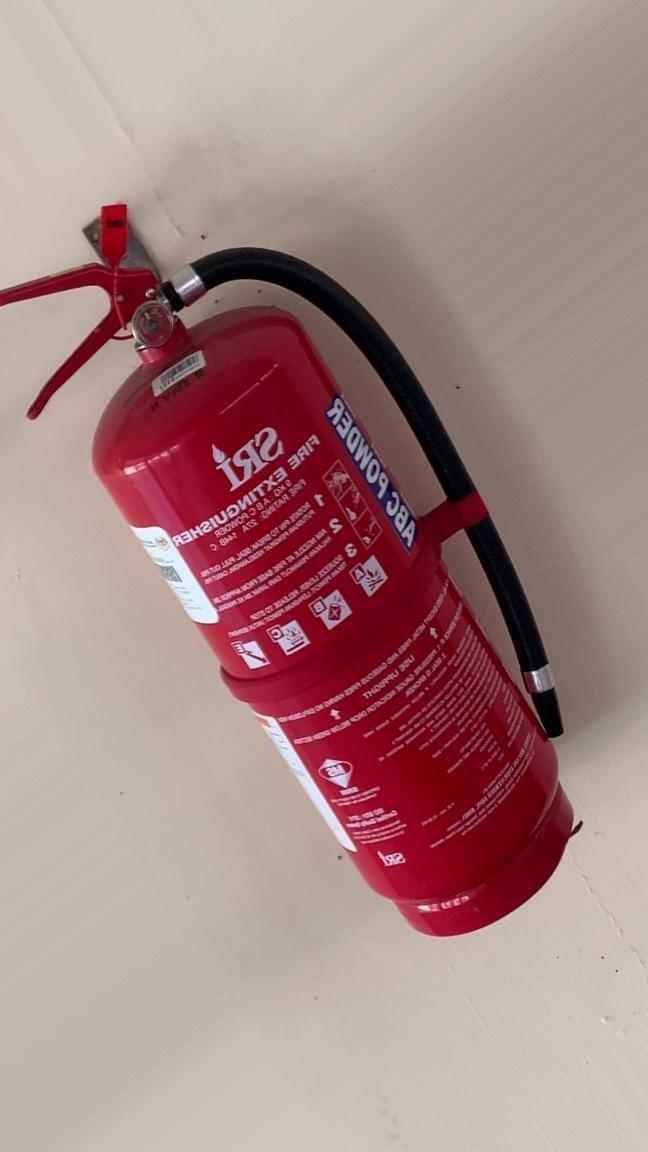fire_extinguisher: (2, 202, 583, 938)
